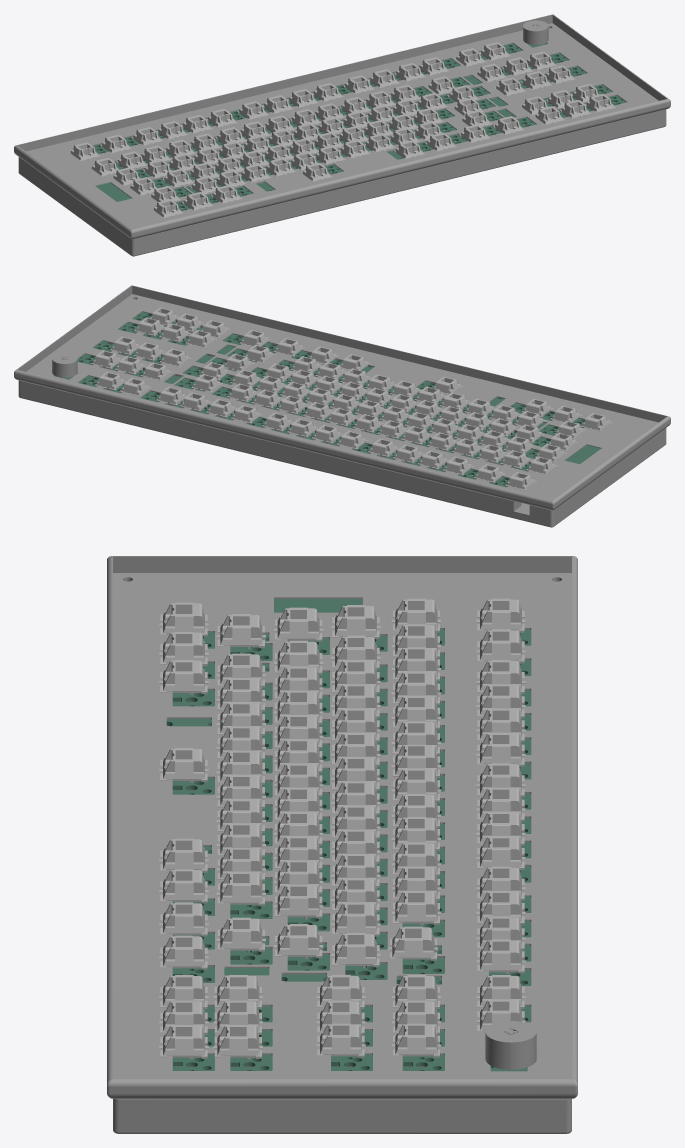
3 views of the same model, one above another, from view 1: azimuth 30°, elevation 25°; view 2: azimuth 150°, elevation 25°; view 3: azimuth 270°, elevation 25° (orthographic). The views are drawn at different scales.
Parts seen in each view (by area): view 1: base v4, object 3, keyboard_PCB; view 2: base v4, object 3, keyboard_PCB; view 3: base v4, object 3, keyboard_PCB.
Part boxes in pixels (x1,y1,x2,y2): base v4: (14, 14, 670, 256); object 3: (69, 42, 616, 218); keyboard_PCB: (93, 43, 626, 210); base v4: (14, 285, 670, 527); object 3: (91, 307, 612, 490); keyboard_PCB: (54, 312, 600, 487); base v4: (107, 556, 577, 1133); object 3: (159, 598, 525, 1067); keyboard_PCB: (166, 599, 531, 1071).
Size of the model in its own units: 13543 by 861 by 5116.
